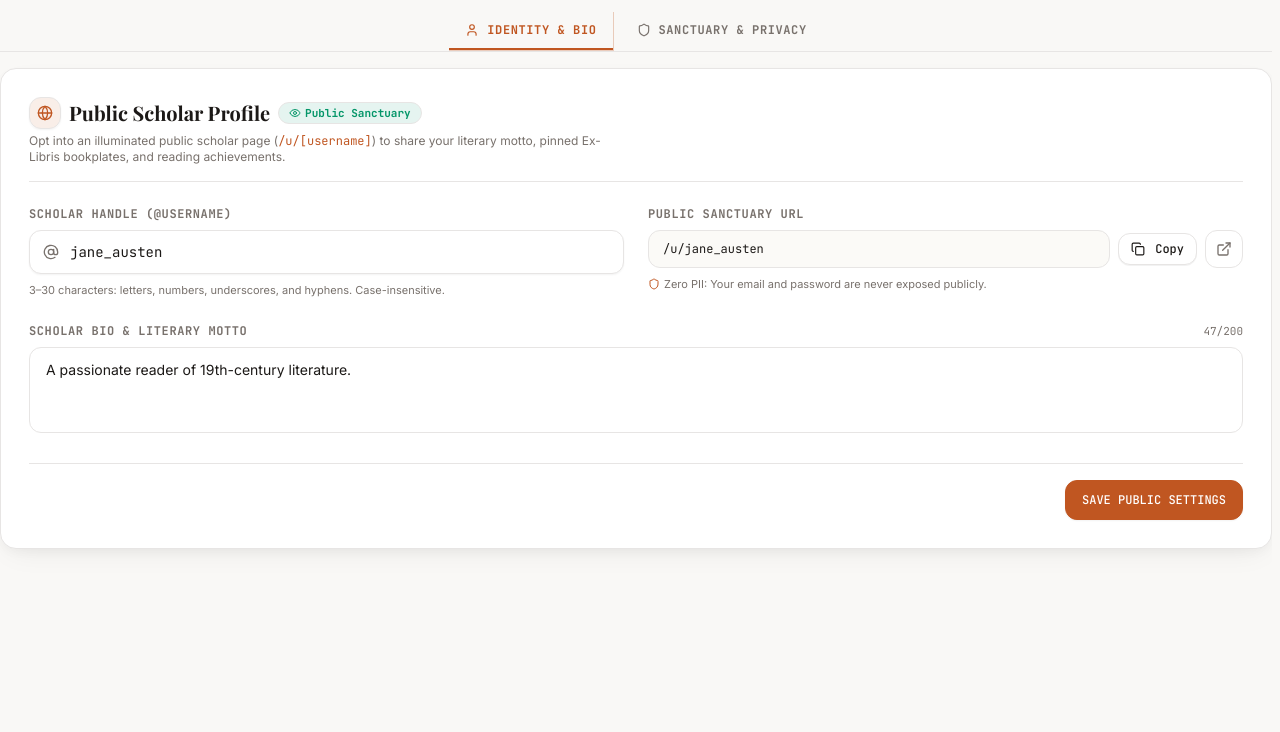
Test: AccountPublicProfileSection › submits updated profile settings and handles success
The image size is (1280, 732).
Replace the text in the text box labelled "Scholar Bio & Literary Motto" with "Updated literary motto." at {"x": 636, "y": 390}, box [29,347,1243,433]
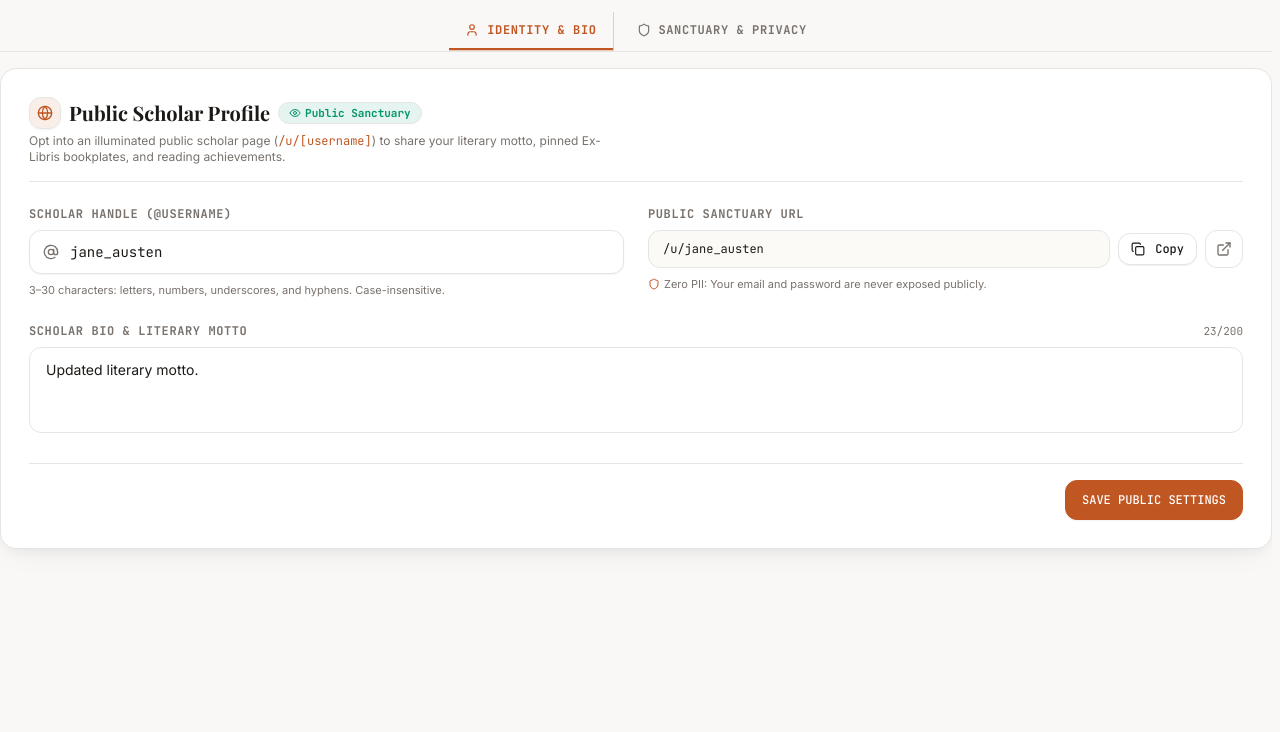
Click the button "Save Public Settings" at {"x": 1154, "y": 500}, box [1065,480,1243,520]
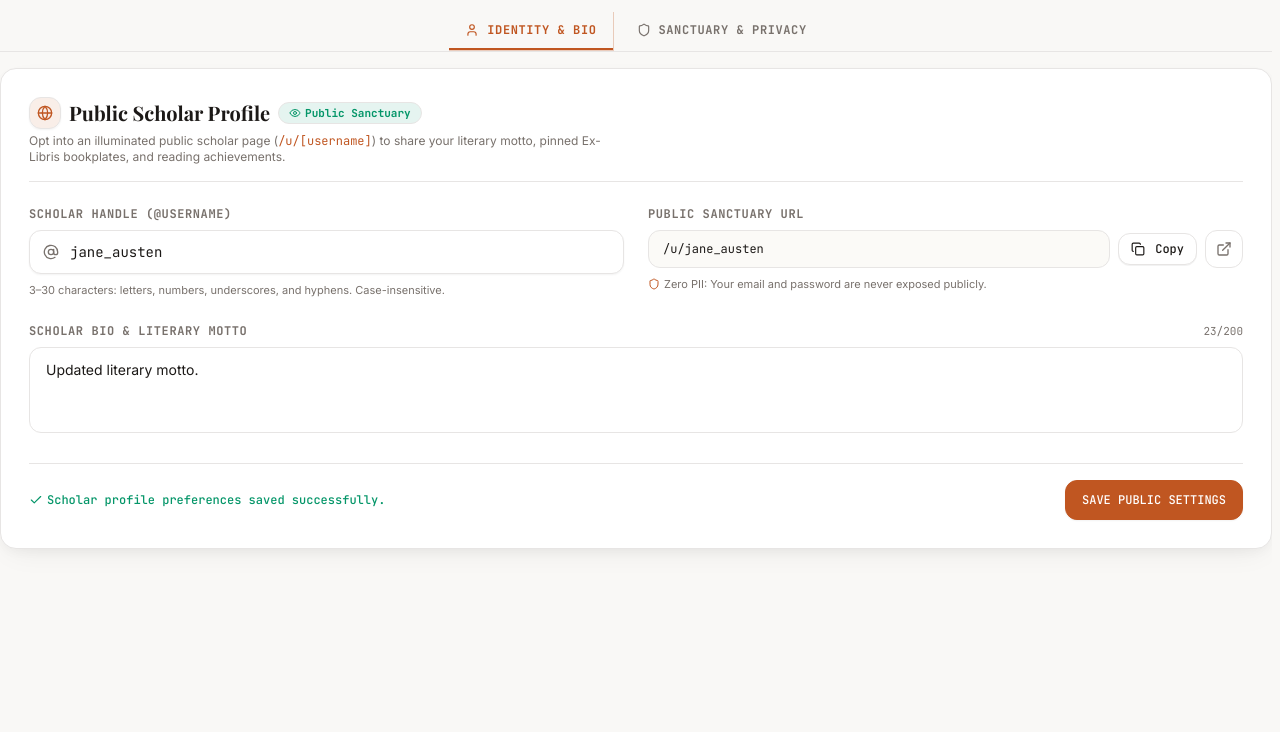
Result: the text "Scholar profile preferences saved successfully." is shown at [47,492,385,508]
